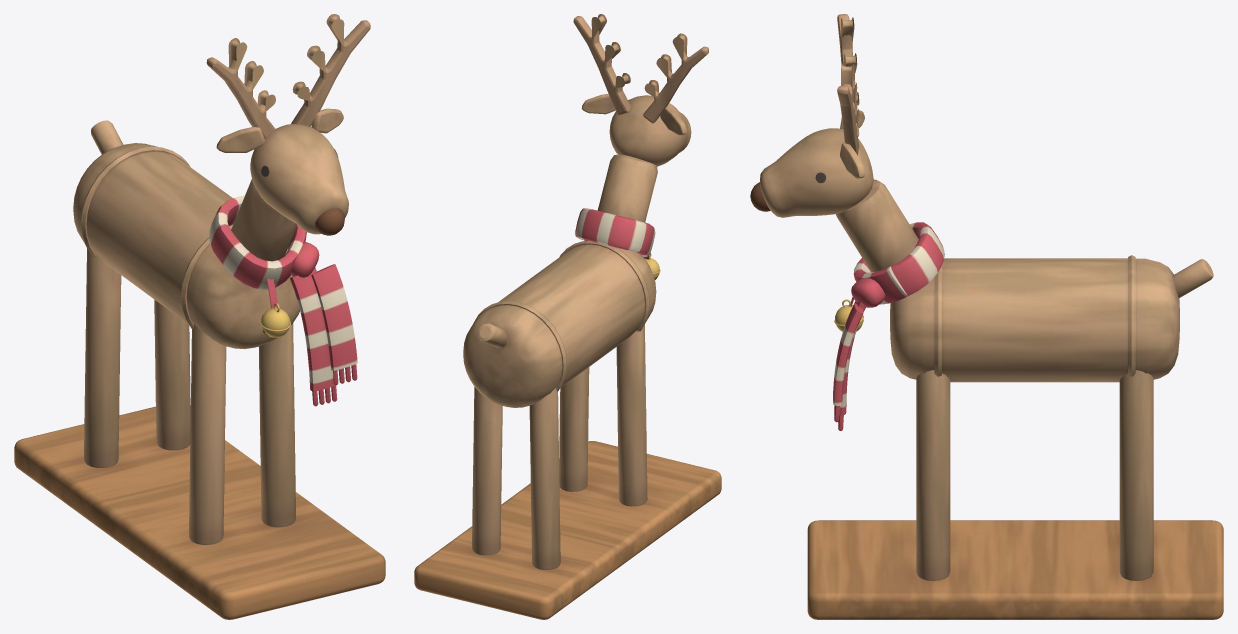
File: reno_madera.glb
3 renders of one model, left to right at view 1: azimuth 30°, elevation 25°; view 2: azimuth 150°, elevation 25°; view 3: azimuth 270°, elevation 25°, orthographic. The views are drawn at different scales.
Visible parts, largest first — view 1: wooden-reindeer_body; view 2: wooden-reindeer_body; view 3: wooden-reindeer_body.
Part boxes in pixels (bbox=[...]): wooden-reindeer_body: bbox=[14, 14, 385, 619]; wooden-reindeer_body: bbox=[414, 14, 721, 619]; wooden-reindeer_body: bbox=[750, 14, 1223, 619].
Size of the model in its own units: 0.19 by 0.6184 by 0.4892.
1 material, 1 textured.
